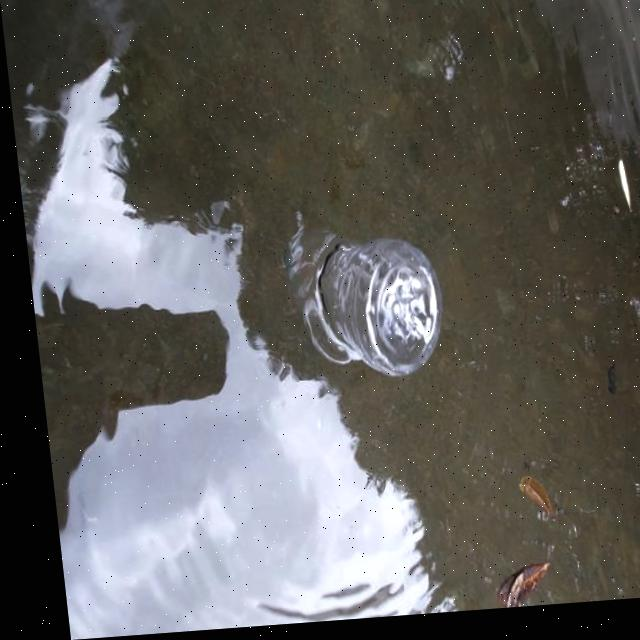leaf: (464, 560, 552, 616), (495, 465, 555, 527)
waterbottle: (233, 209, 457, 401)
